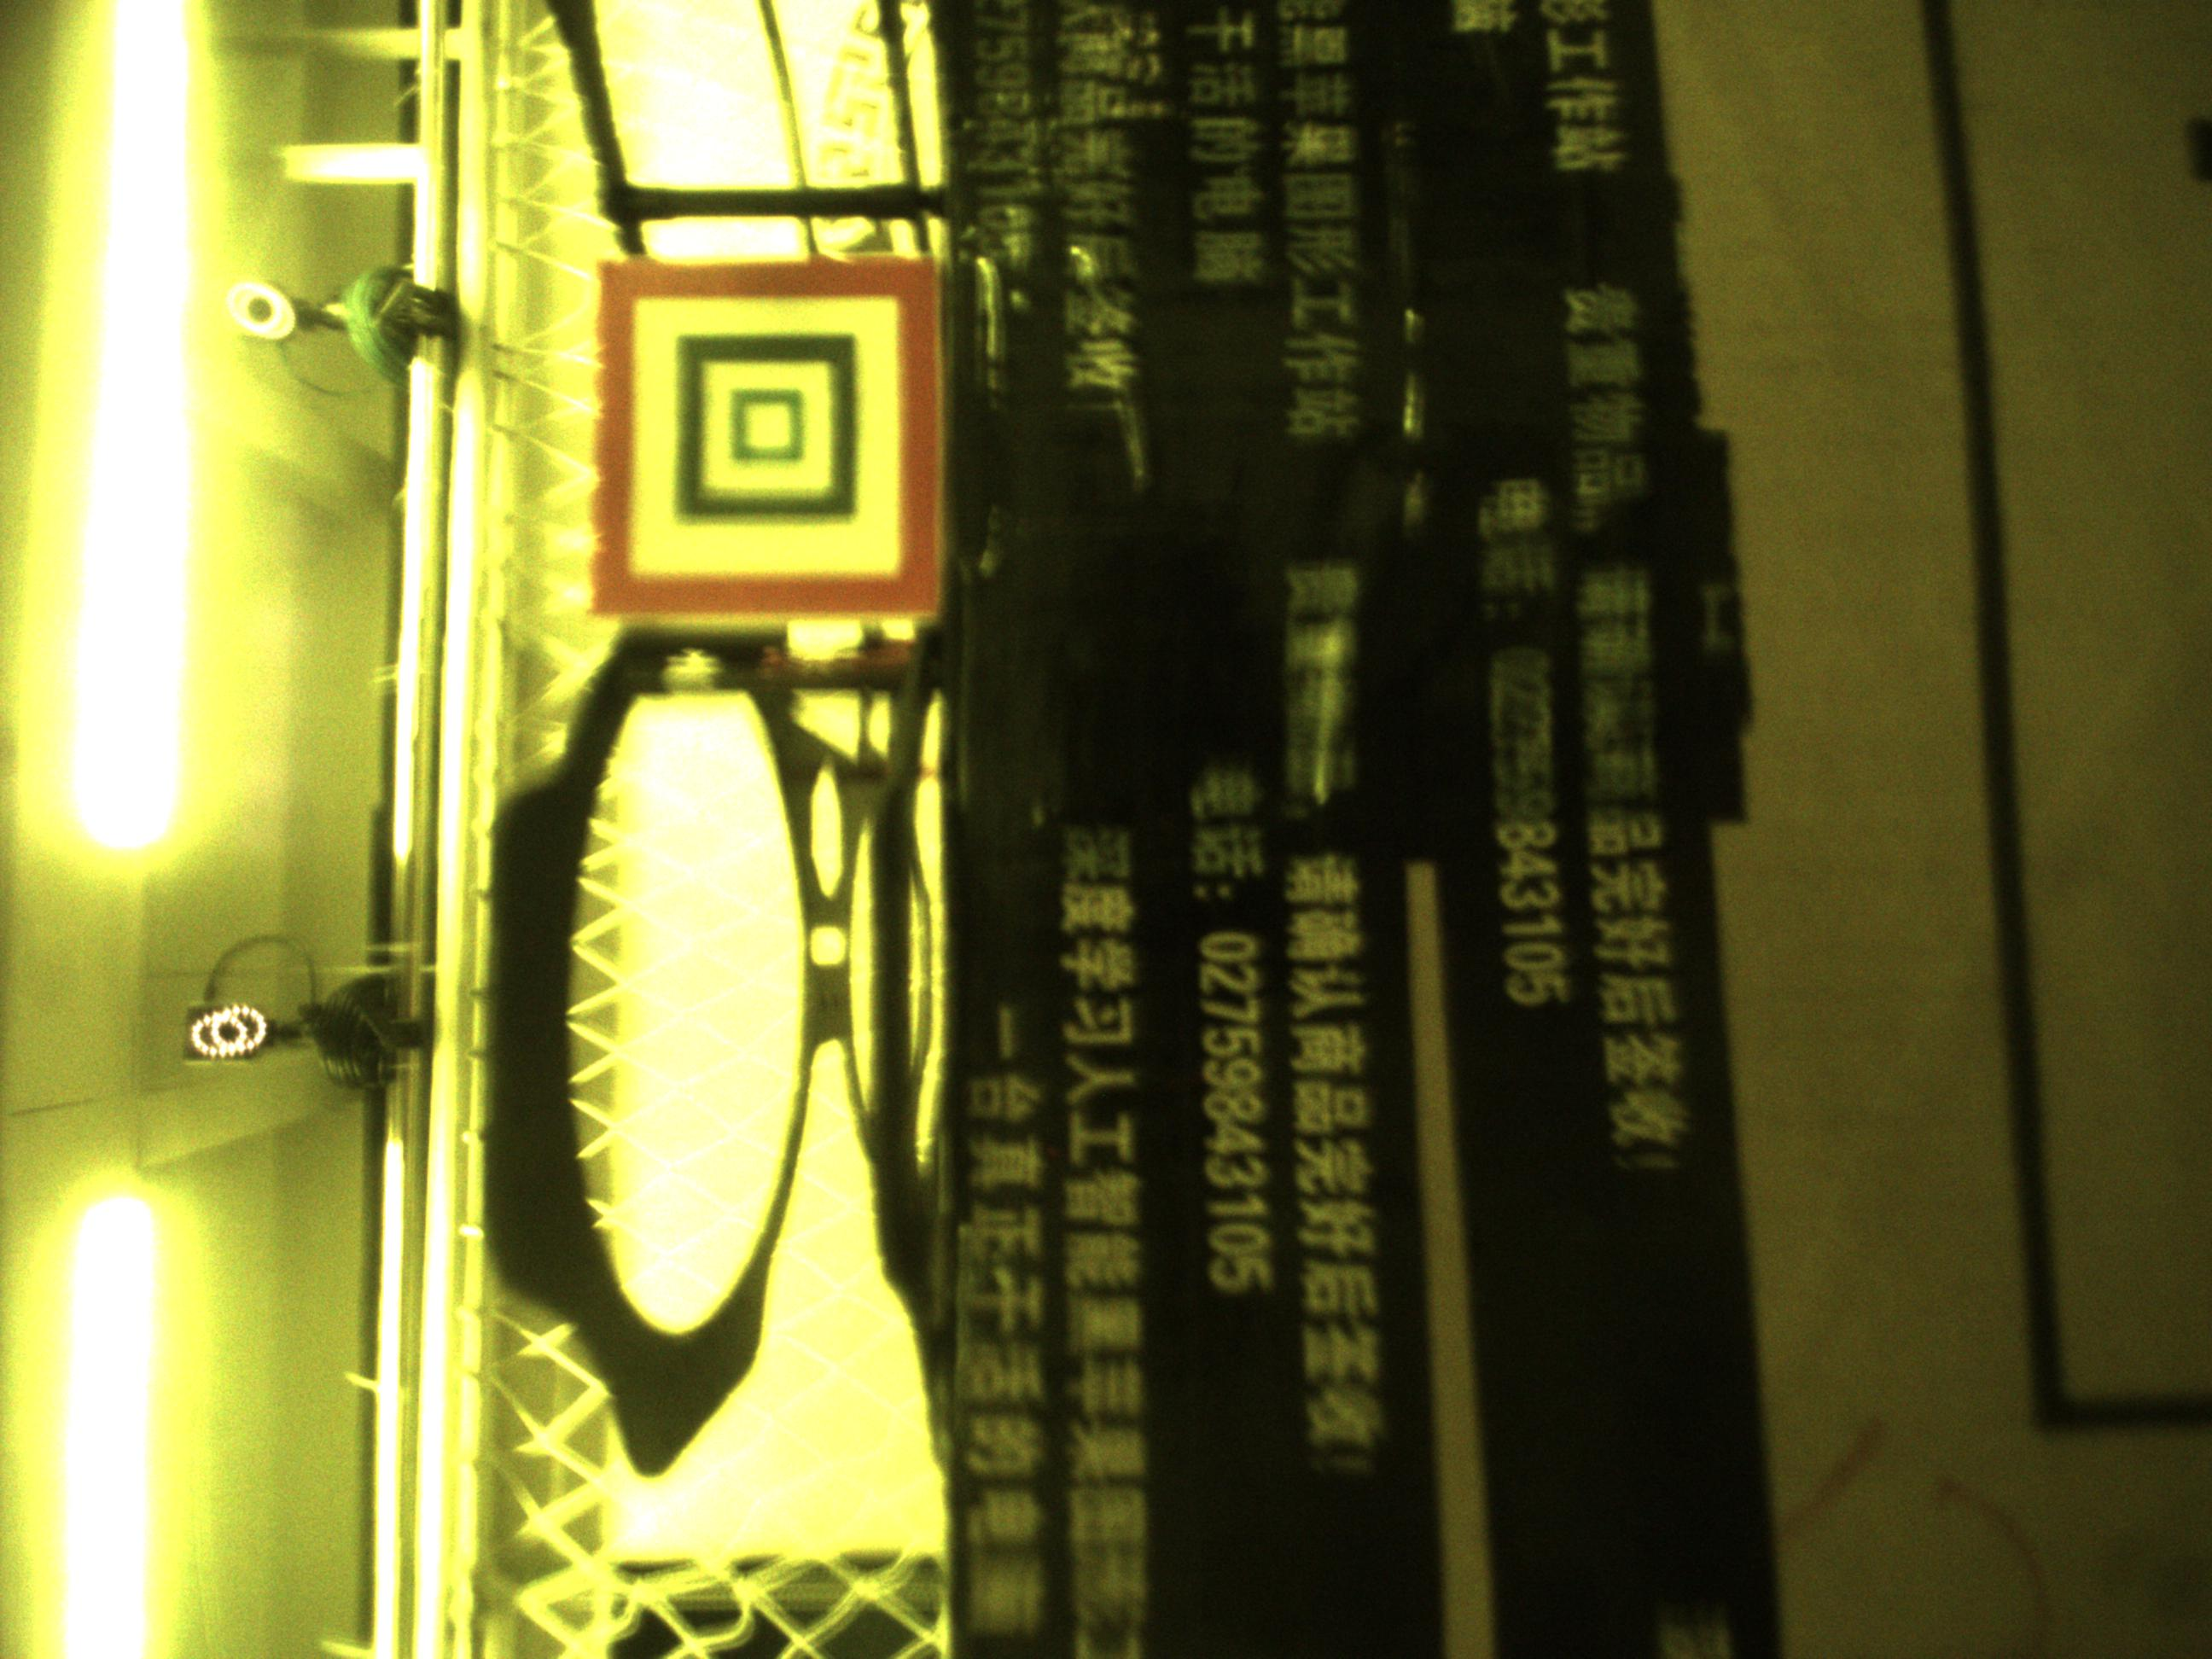outline: (597, 260, 939, 620)
